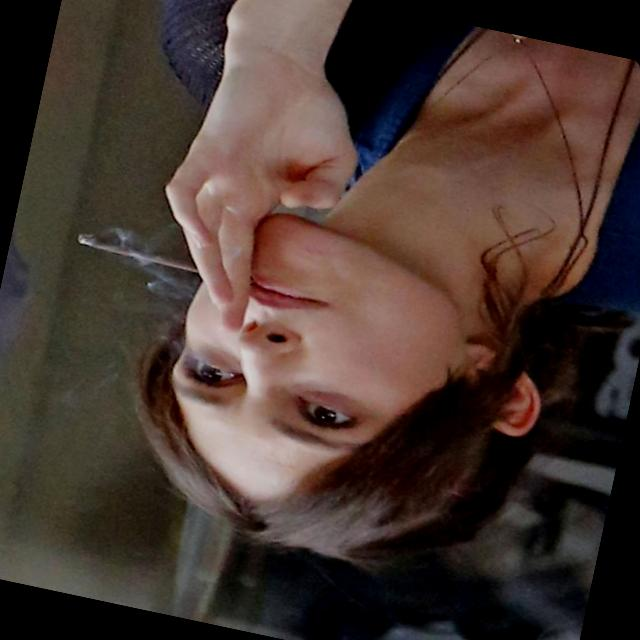smoke: (45, 202, 271, 304)
